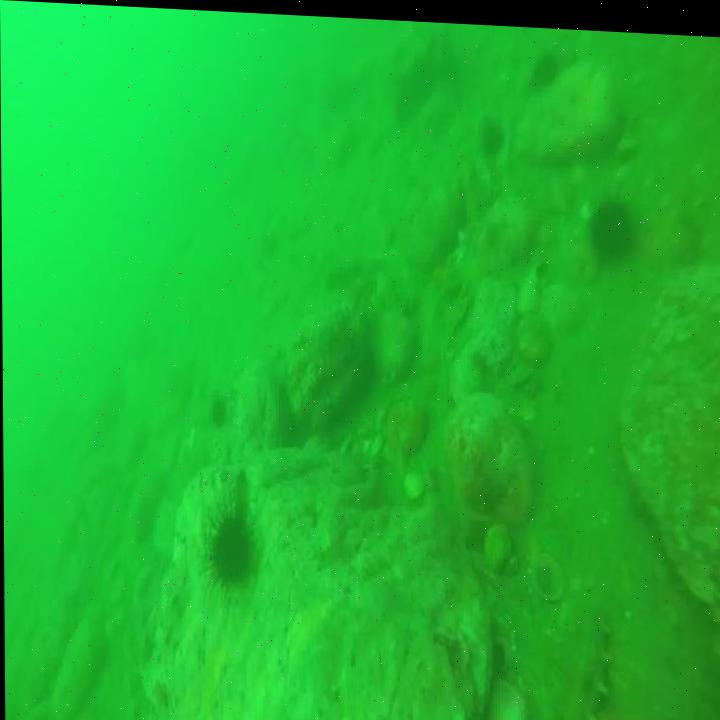echinus: (198, 507, 250, 599), (580, 187, 637, 257), (529, 41, 556, 85), (480, 123, 505, 150), (208, 389, 224, 416)
holothurian: (559, 601, 612, 720)
scallop: (526, 544, 565, 602)
